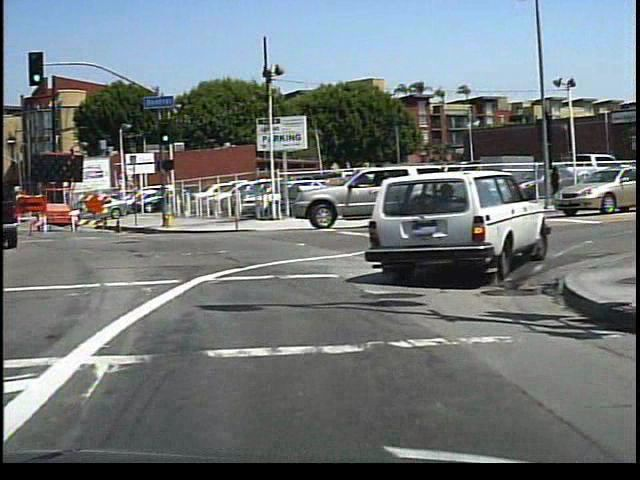person: (545, 162, 564, 205)
